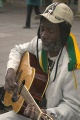male: (34, 8, 69, 55)
